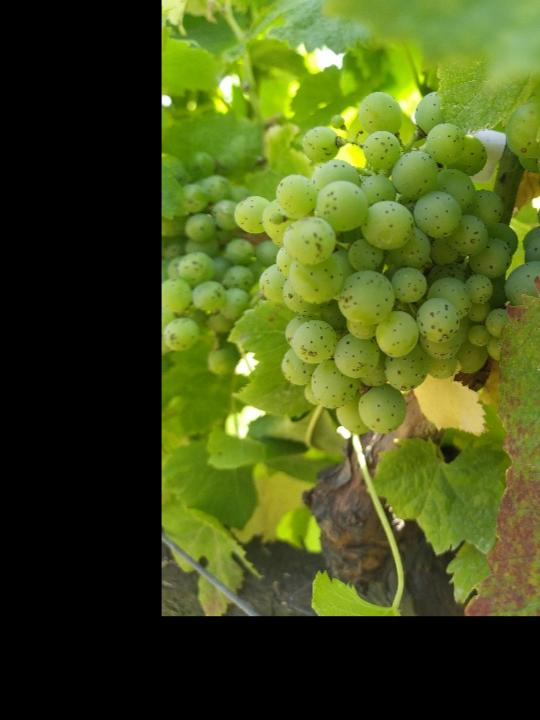grape: (234, 86, 524, 438)
